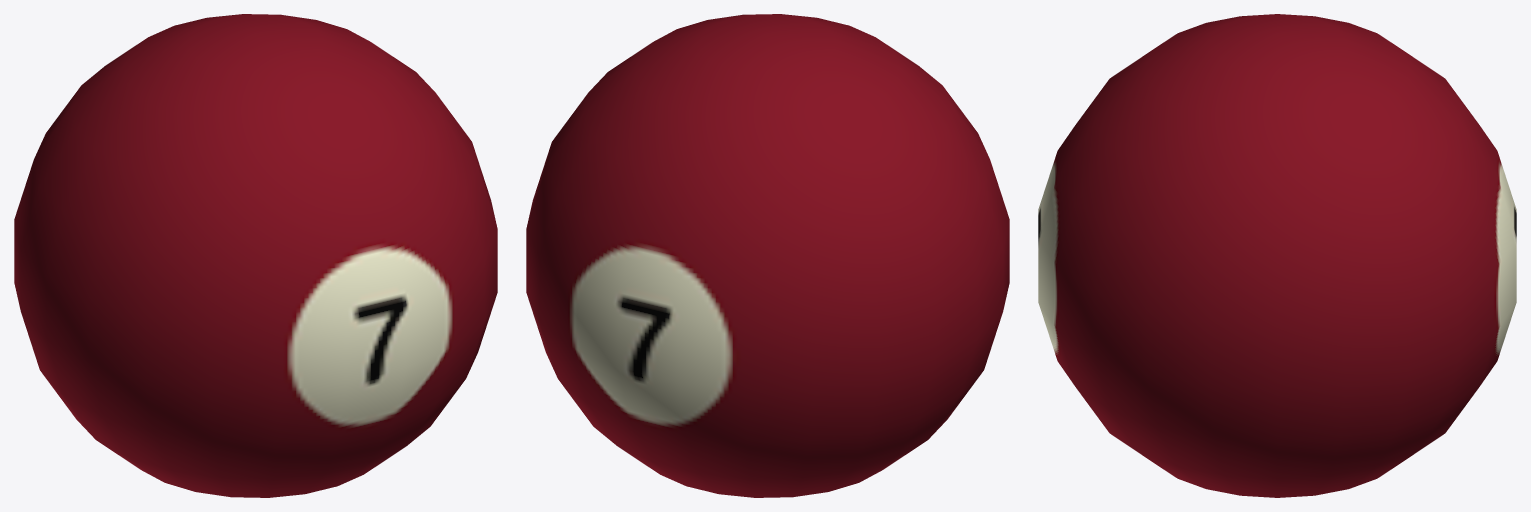
File: Ball_7.FBX
The picture shows the model from 3 angles, left to right: view 1: azimuth 30°, elevation 25°; view 2: azimuth 150°, elevation 25°; view 3: azimuth 270°, elevation 25°; orthographic projection.
Parts seen in each view (by area): view 1: Ball_7; view 2: Ball_7; view 3: Ball_7.
Boxes of the visible parts, x1,y1,x2,y2 form: Ball_7: (14,14,497,497); Ball_7: (526,14,1009,497); Ball_7: (1038,14,1516,497).
Bounding box in the file's own units: 5.64 × 5.7 × 5.58.
